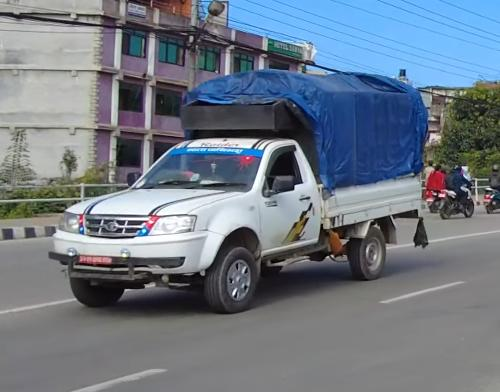bike: (424, 157, 480, 225)
scooter: (479, 175, 500, 214)
transport_vehicle: (44, 59, 434, 322)
